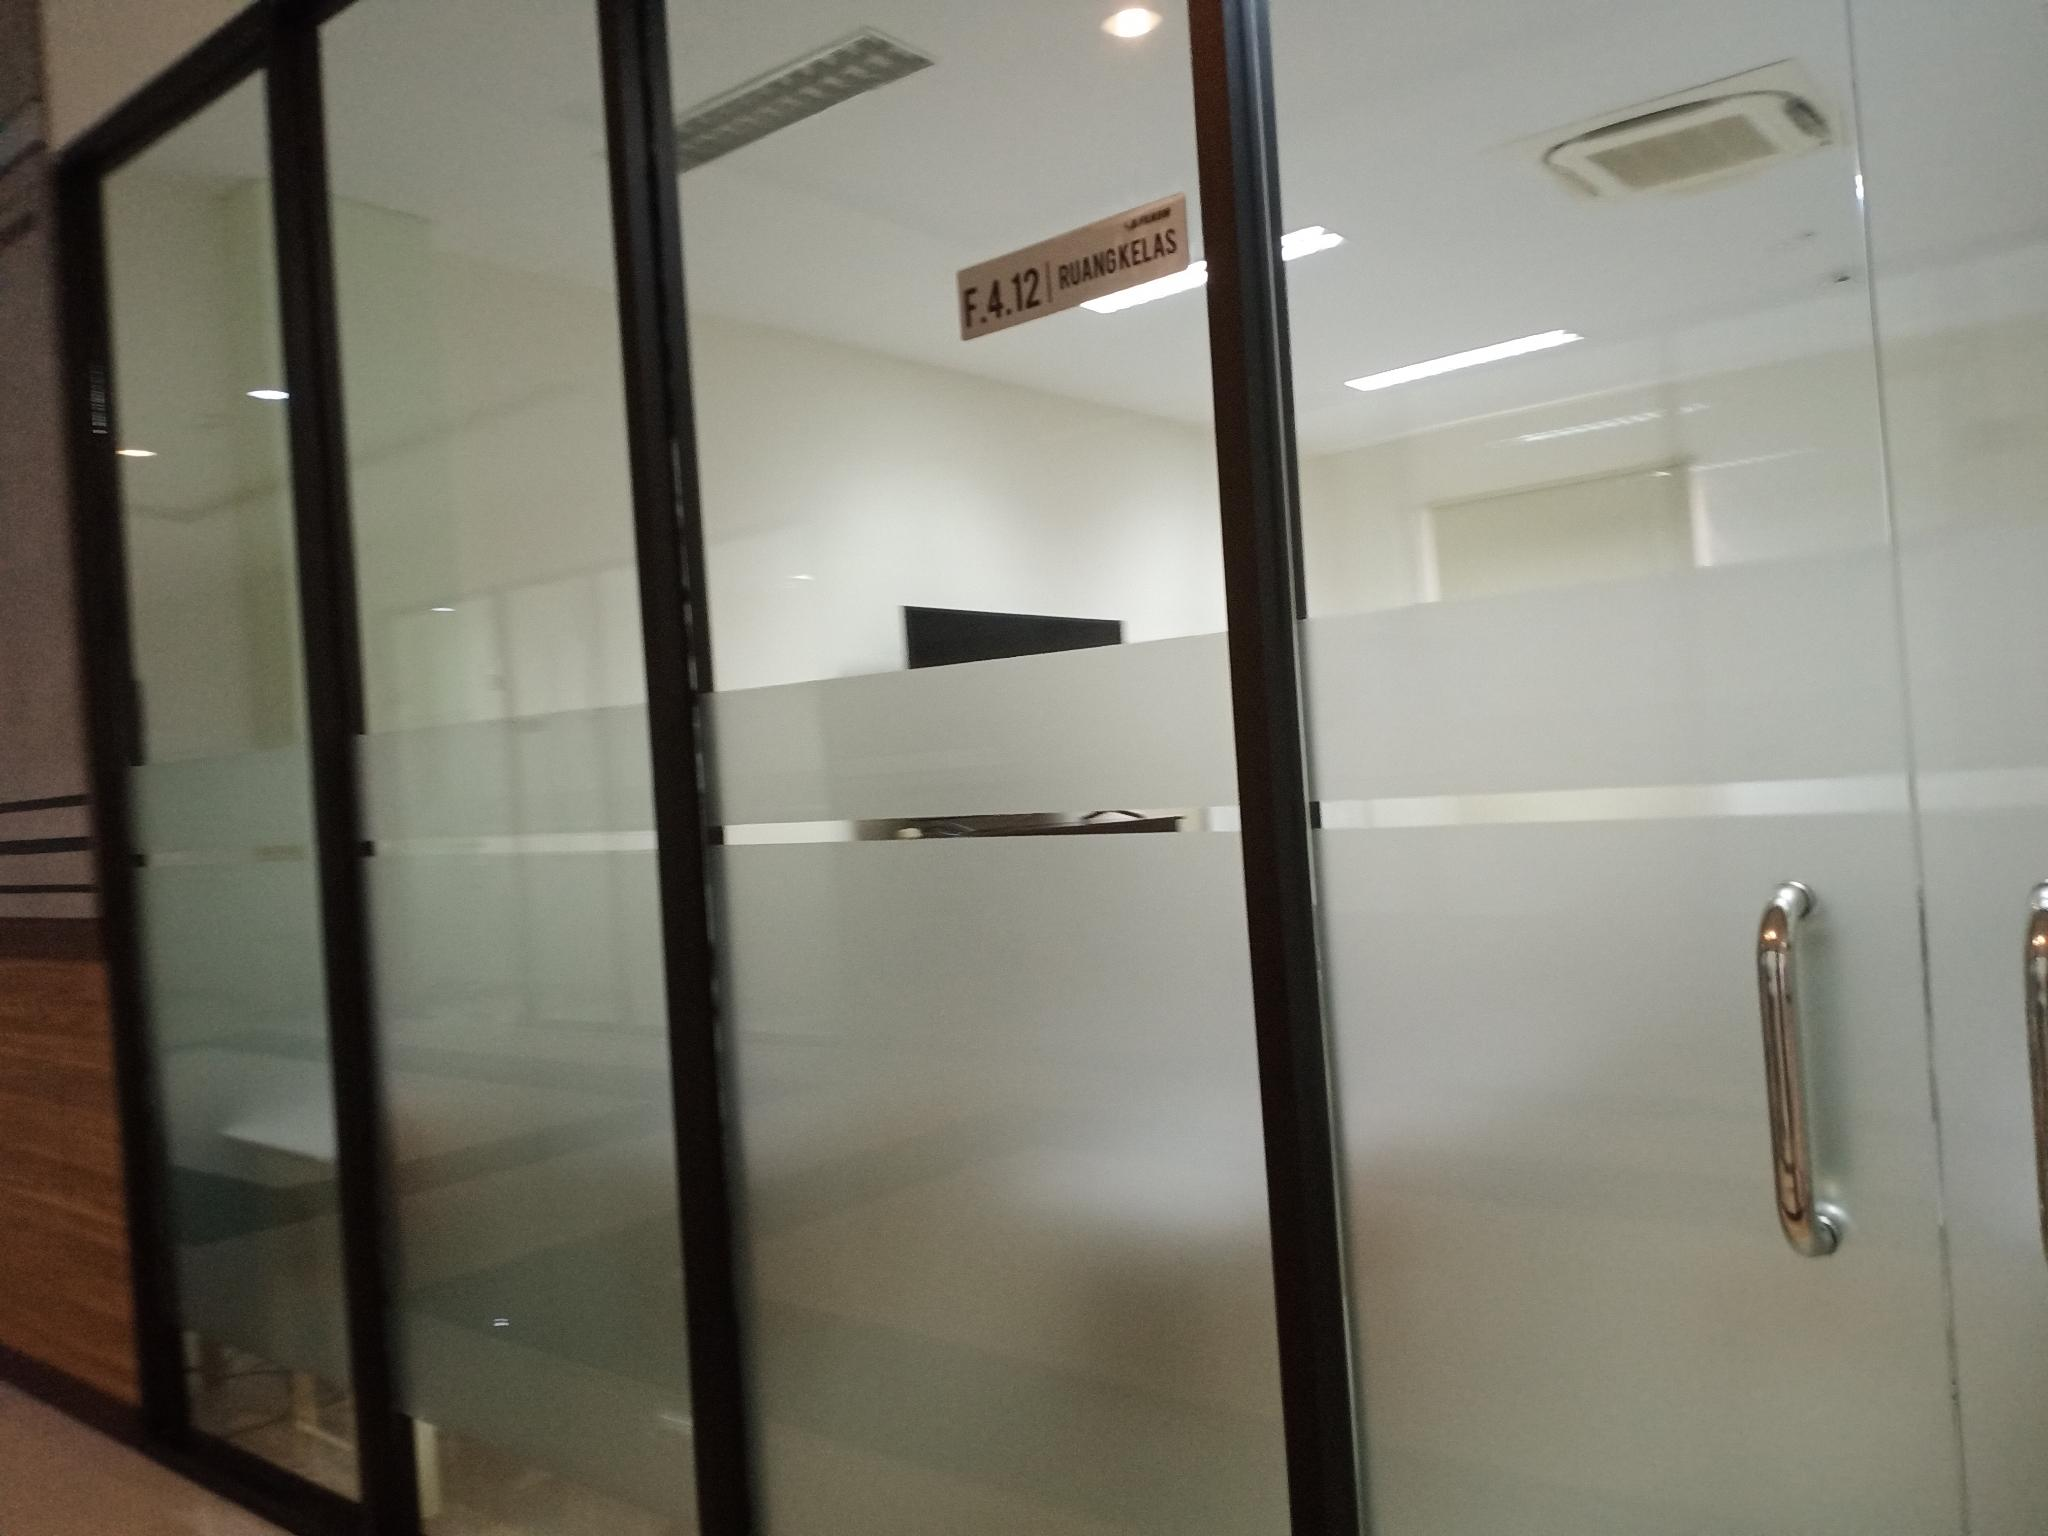plate: (956, 192, 1192, 340)
